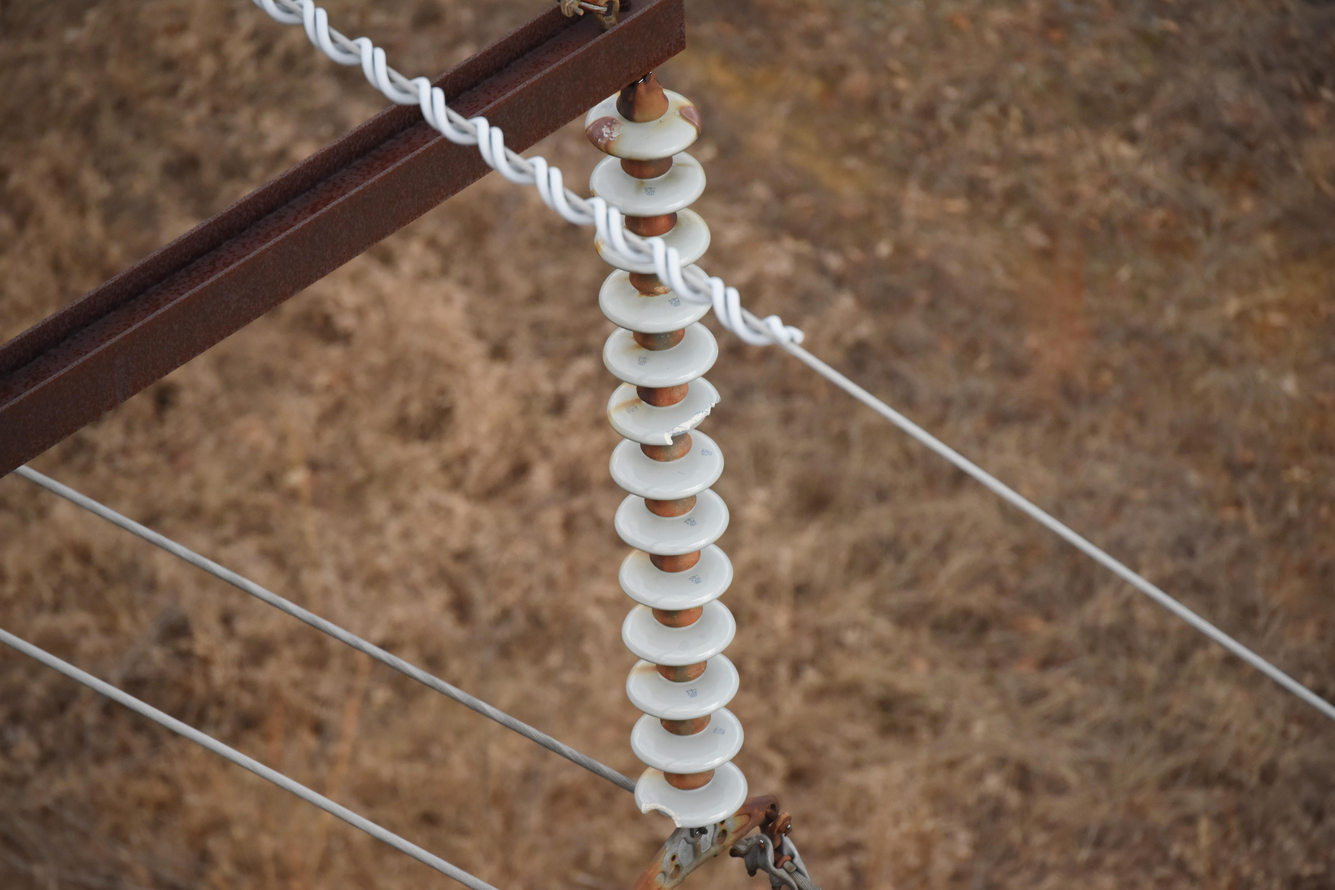damaged: (660, 389, 722, 450), (639, 798, 685, 830)
insulator: (584, 84, 749, 832)
